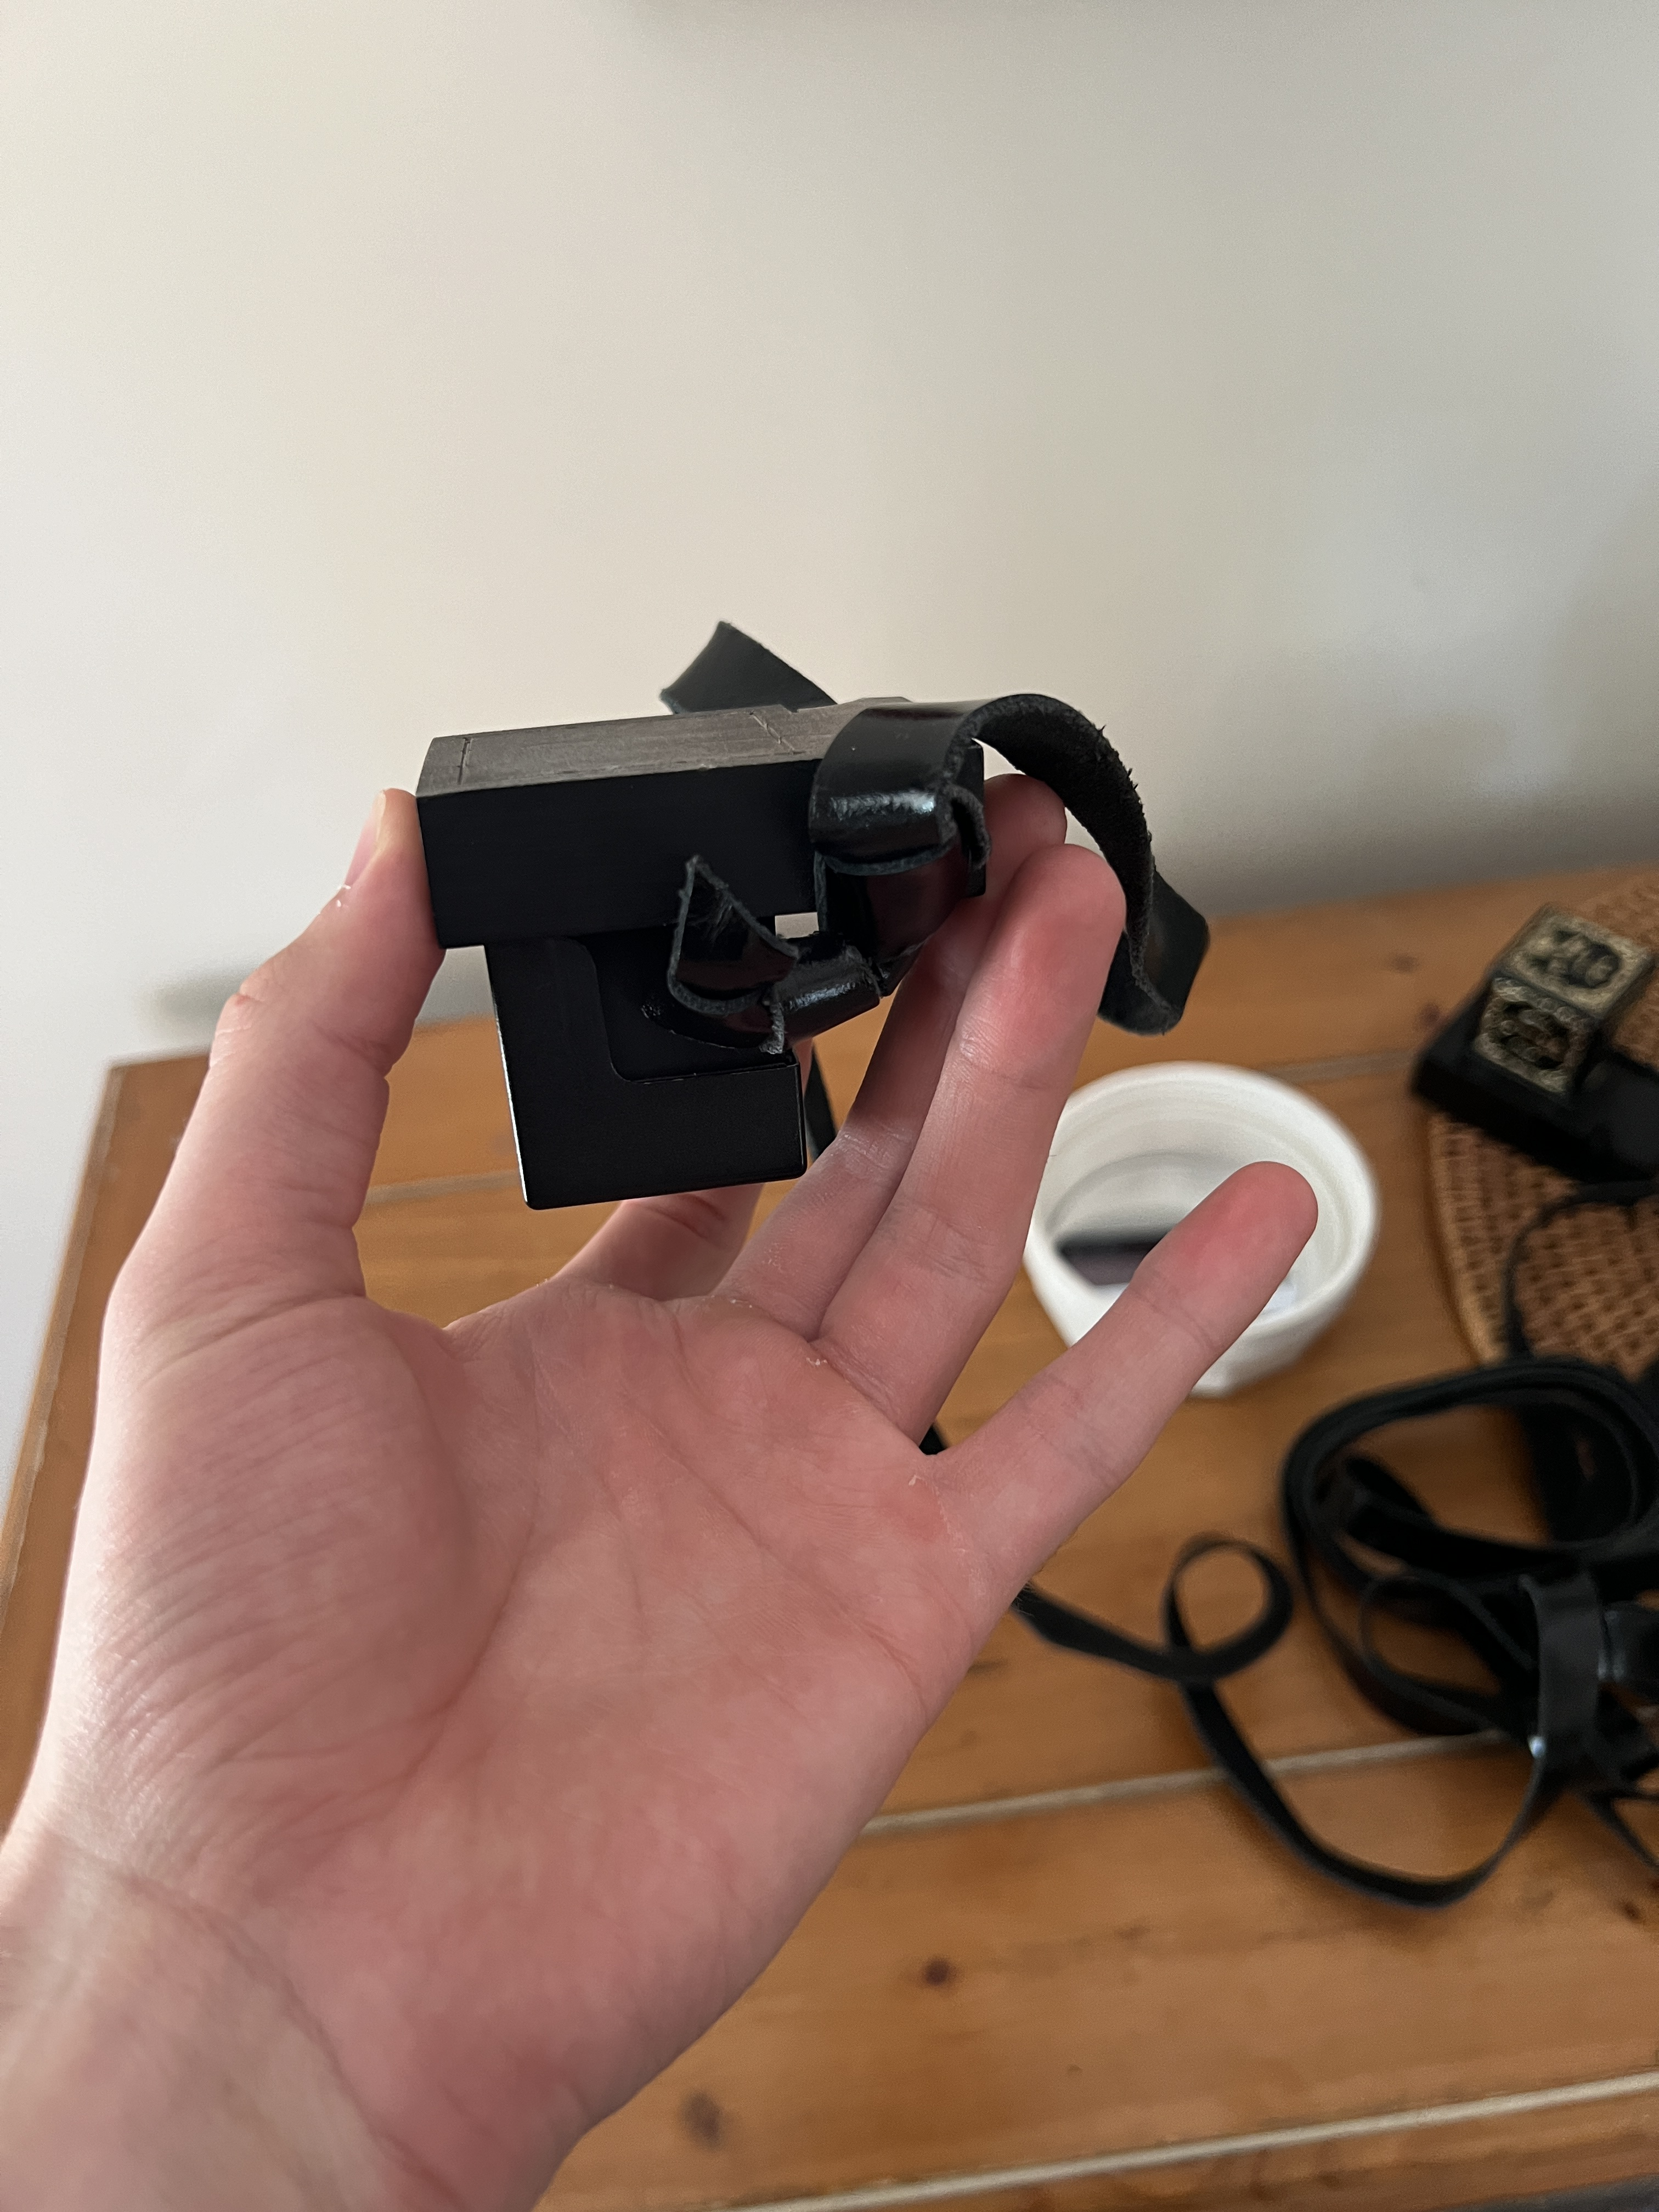tefillin: (413, 698, 955, 1211)
